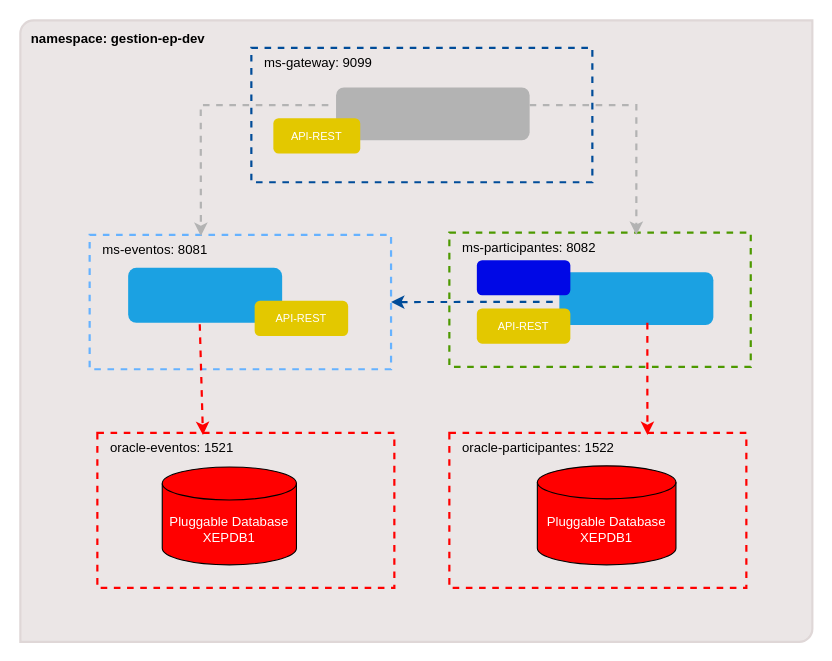
Image size: 832x661. Some labels were removed from this diagram. The centre of each missing label's shape, as x and y in pixels:
Comunicación REST (Feign): point 523,277
ms-eventos: point 205,294
ms-gateway Spring Cloud Gateway: point 432,113
ms-participantes: point 636,298
